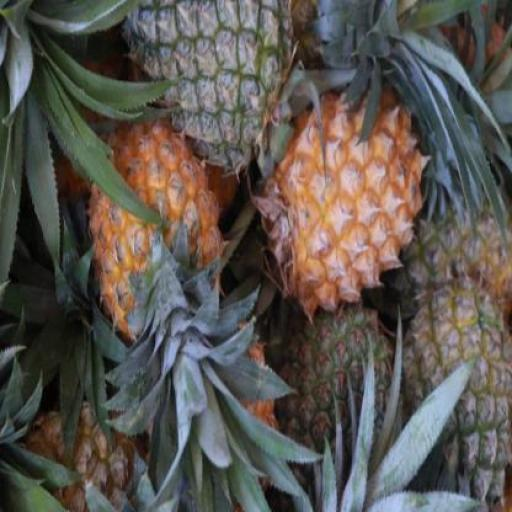------------------------------: (404, 283, 510, 511)
Pineapple - v8 v1: (261, 90, 426, 320), (84, 123, 224, 342)
